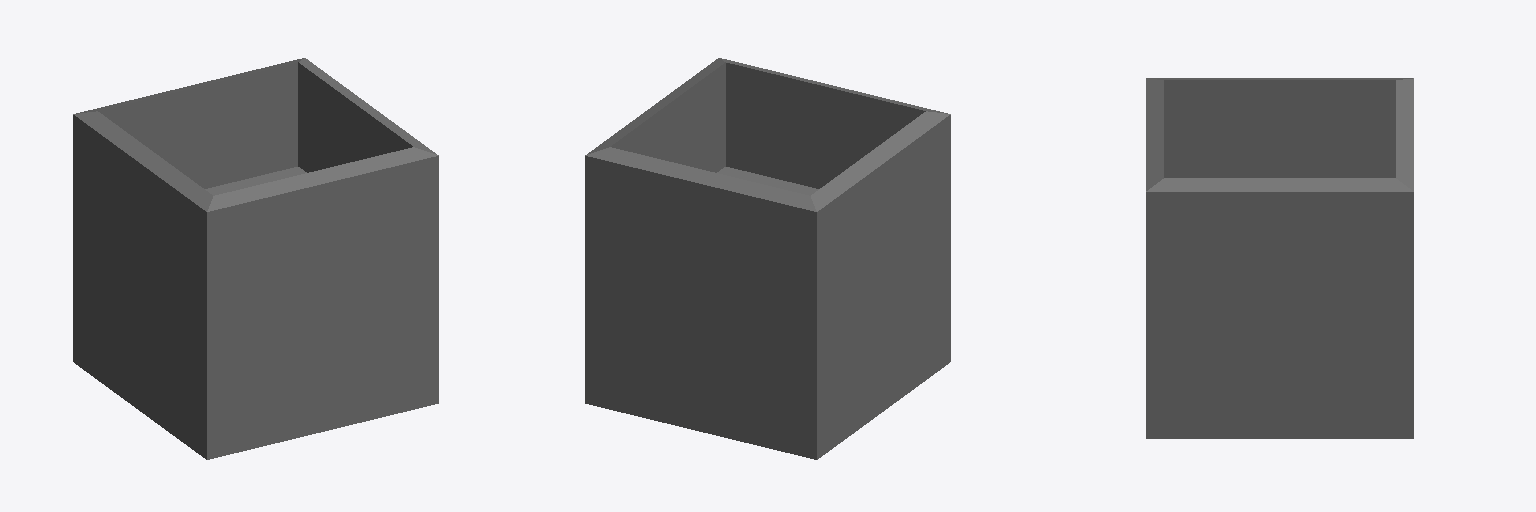
Rendered from bevelroof.obj.
3 renders of one model, left to right at view 1: azimuth 30°, elevation 25°; view 2: azimuth 150°, elevation 25°; view 3: azimuth 270°, elevation 25°, orthographic.
Visible parts, largest first — view 1: bevelroof4:pCube1; view 2: bevelroof4:pCube1; view 3: bevelroof4:pCube1.
Boxes of the visible parts, x1,y1,x2,y2 form: bevelroof4:pCube1: [73, 58, 438, 459]; bevelroof4:pCube1: [585, 58, 950, 459]; bevelroof4:pCube1: [1146, 78, 1413, 438].
Size of the model in its own units: 1 by 1.05 by 1.